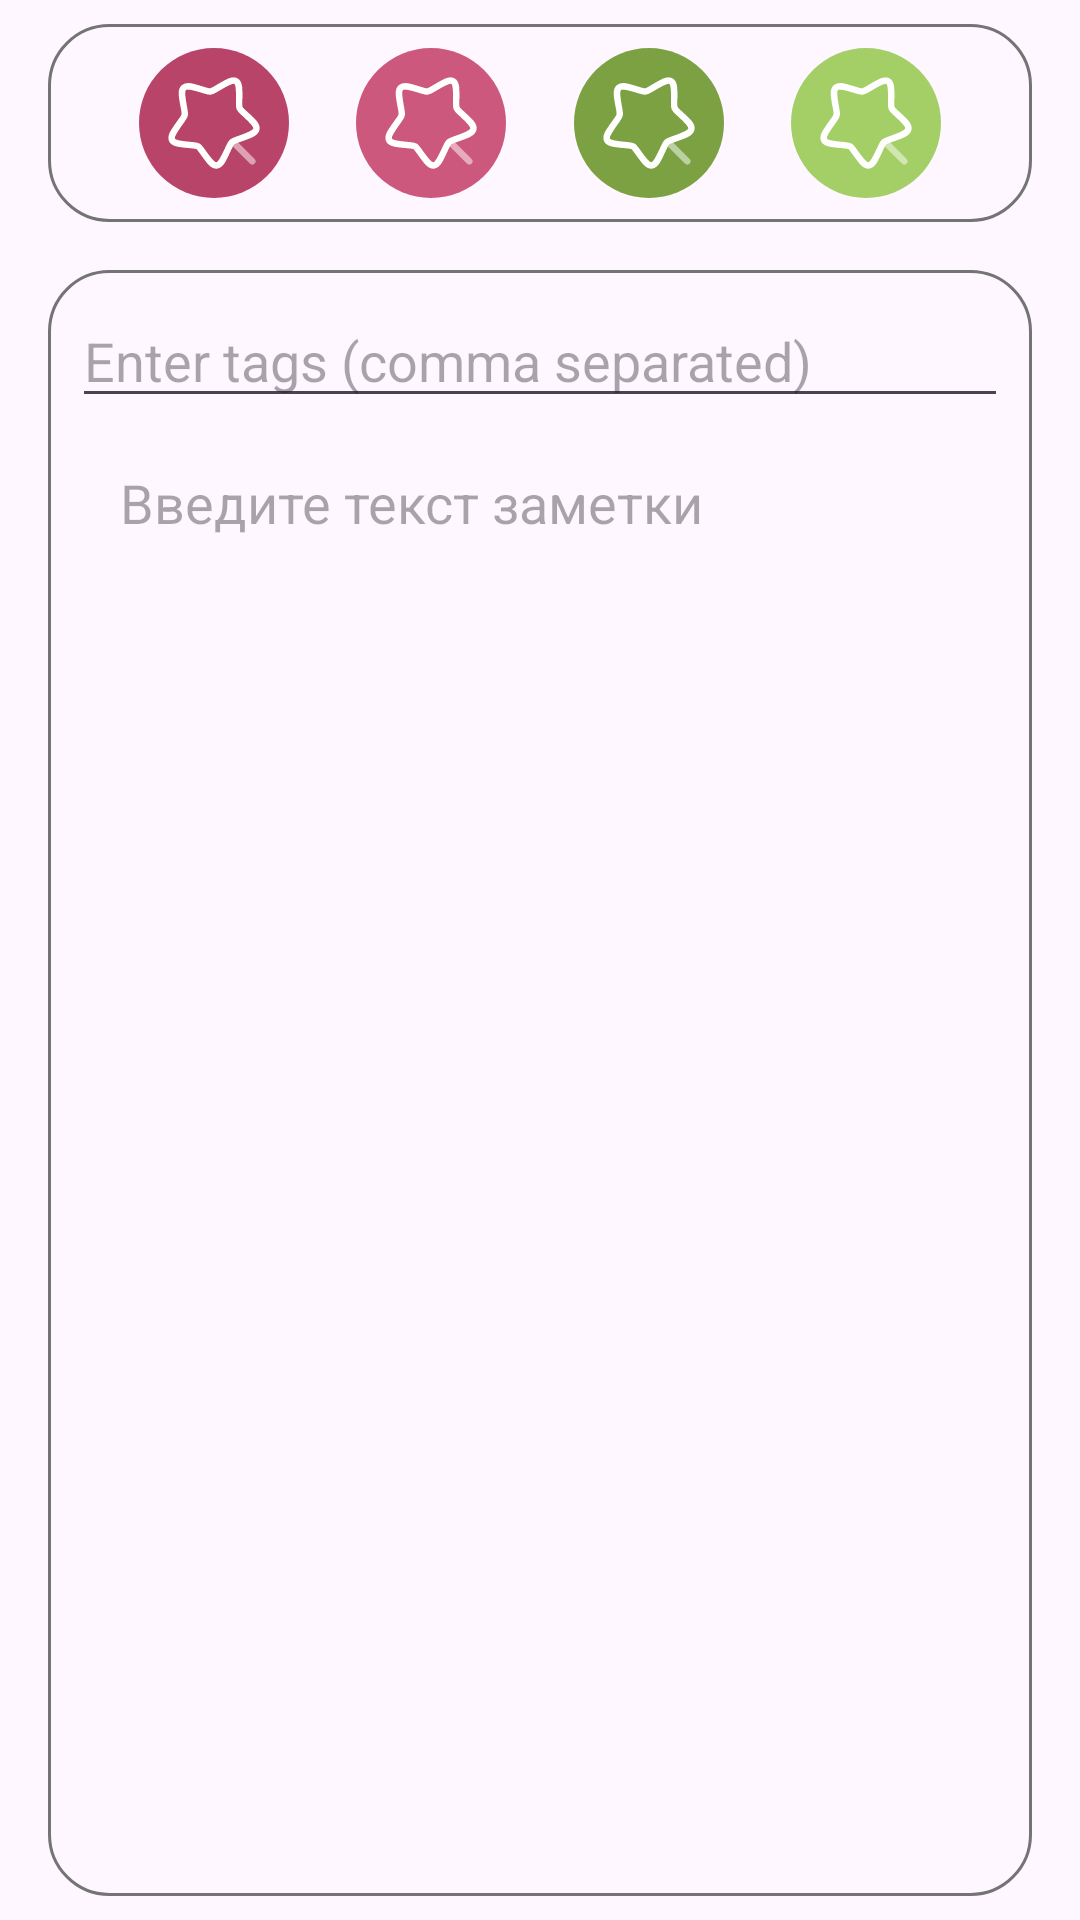

Where icons sit on this 1080 x 1920 app screen, as (x1, y1, x2, y2):
Star button: (139, 48, 289, 198), (356, 48, 506, 198), (574, 48, 724, 198), (791, 48, 941, 198)
